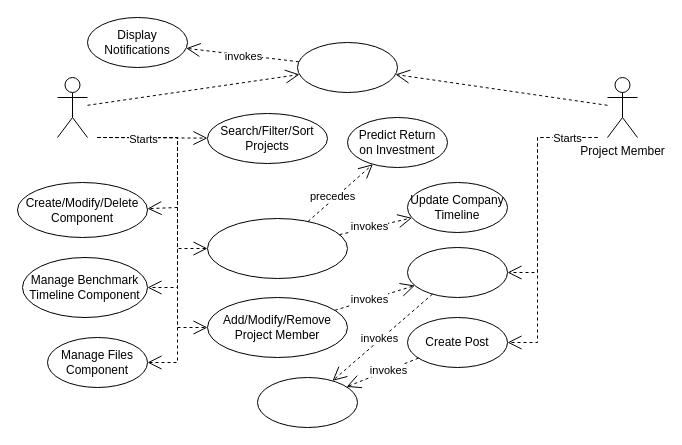
This 682x445 diagram has some shape labels left out. Here are the shapes that lost their labels. From the top down, the centre of each, then its label:
At point 347,67: "Login".
At point 72,107: "Project Manager".
At point 277,248: "Create/Modify/Delete/ Close Project".
At point 457,272: "Modify Member Status".
At point 307,402: "Update Issue Score".
